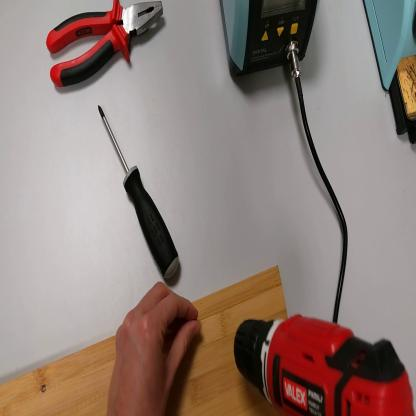electric screwdriver: (234, 313, 416, 414)
hand: (109, 281, 204, 414)
pliers: (44, 3, 165, 92)
screwdriver-: (99, 104, 180, 282)
welder base: (363, 2, 416, 146)
welder station: (221, 2, 320, 86)
working area: (2, 266, 289, 416)
